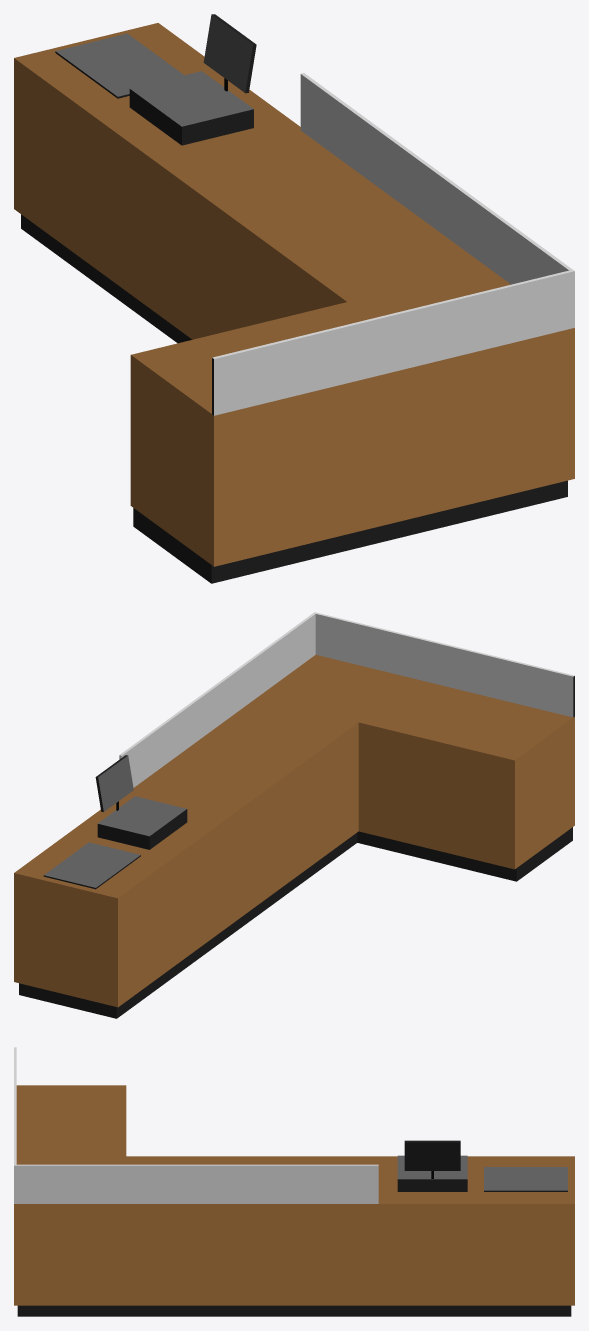
Rendered from Counter 1.fbx.
The picture shows the model from 3 angles, top to bottom: view 1: azimuth 30°, elevation 25°; view 2: azimuth 150°, elevation 25°; view 3: azimuth 270°, elevation 25°; orthographic projection. The views are drawn at different scales.
Visible parts, largest first — view 1: Counter; view 2: Counter; view 3: Counter.
Boxes of the visible parts, box(x1,y1,x2,y2) form: Counter: box(14, 14, 574, 583); Counter: box(14, 612, 574, 1018); Counter: box(14, 1047, 574, 1316).
Bounding box in the file's own units: 200 × 131 × 400.
